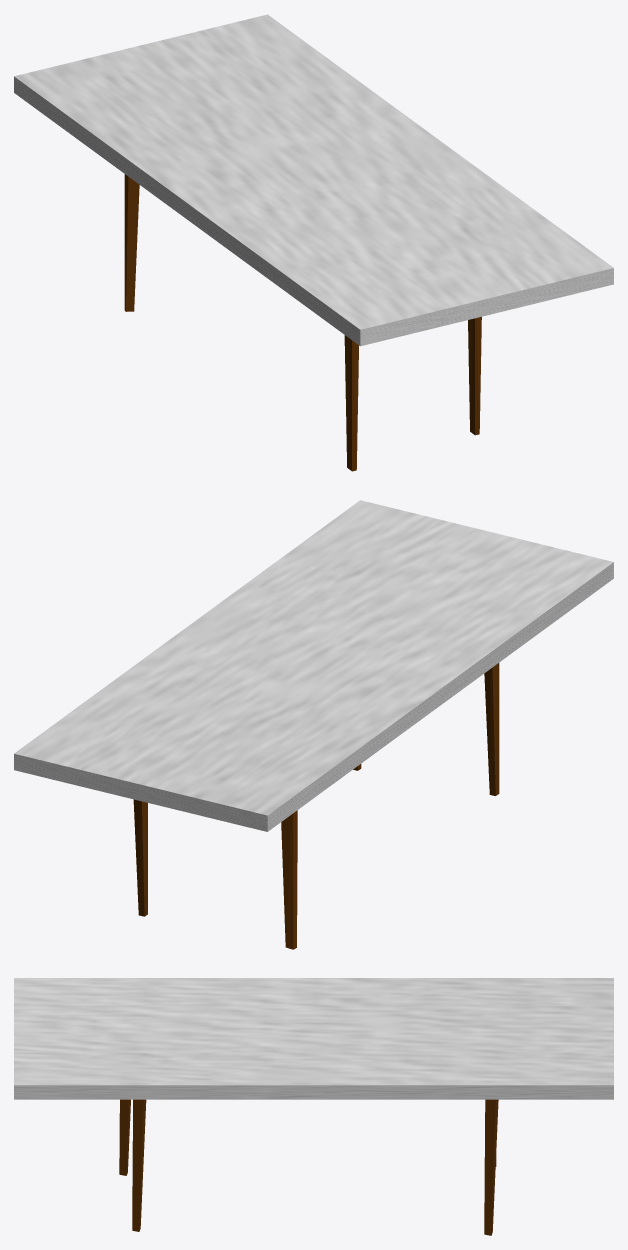
Rendered from BigTable.obj.
3 renders of one model, top to bottom at view 1: azimuth 30°, elevation 25°; view 2: azimuth 150°, elevation 25°; view 3: azimuth 270°, elevation 25°, orthographic. The views are drawn at different scales.
Visible parts, largest first — view 1: Cube.006_Material.002, Cube.006_NORMAL; view 2: Cube.006_Material.002, Cube.006_NORMAL; view 3: Cube.006_Material.002, Cube.006_NORMAL.
Boxes of the visible parts, x1,y1,x2,y2 form: Cube.006_Material.002: [14, 14, 613, 346]; Cube.006_NORMAL: [124, 174, 481, 471]; Cube.006_Material.002: [14, 500, 613, 831]; Cube.006_NORMAL: [133, 663, 499, 949]; Cube.006_Material.002: [14, 978, 613, 1099]; Cube.006_NORMAL: [119, 1099, 498, 1235].
Size of the model in its own units: 2.87 by 2.17 by 6.78.
